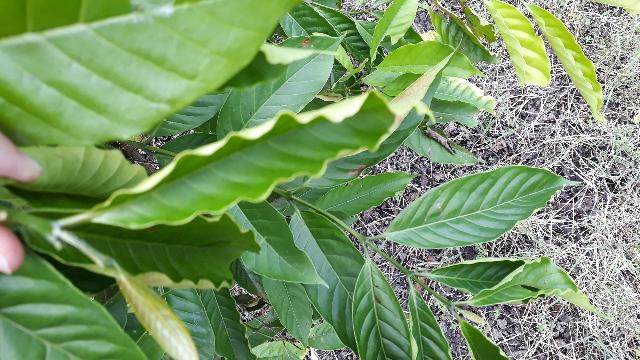healthy: (93, 93, 393, 229)
